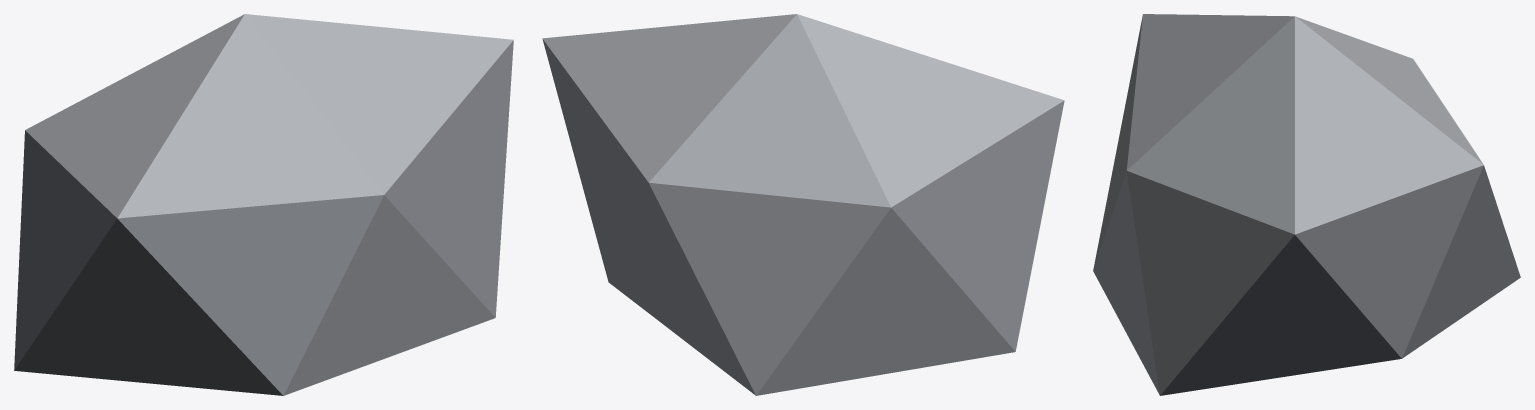
Rendered from Rock_A.fbx.
The picture shows the model from 3 angles, left to right: view 1: azimuth 30°, elevation 25°; view 2: azimuth 150°, elevation 25°; view 3: azimuth 270°, elevation 25°; orthographic projection. The views are drawn at different scales.
Parts seen in each view (by area): view 1: Rock_A; view 2: Rock_A; view 3: Rock_A.
Boxes of the visible parts, box(x1,y1,x2,y2) form: Rock_A: box(14, 14, 513, 395); Rock_A: box(542, 14, 1064, 395); Rock_A: box(1093, 14, 1520, 395).
Bounding box in the file's own units: 1.82 × 1.11 × 1.38.
1 material, 1 textured.
